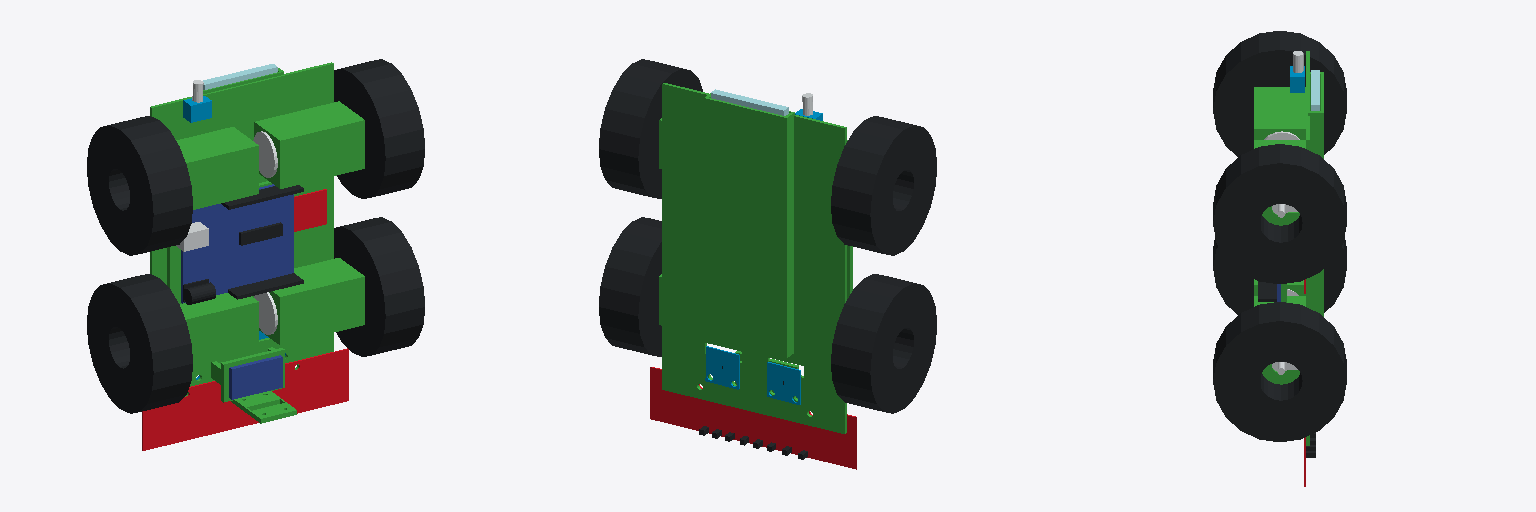
The model's file is tinker.obj.
3 views of the same model, side by side, from view 1: azimuth 30°, elevation 25°; view 2: azimuth 150°, elevation 25°; view 3: azimuth 270°, elevation 25° (orthographic).
Parts seen in each view (by area): view 1: obj_0; view 2: obj_0; view 3: obj_0.
Part boxes in pixels (bbox=[...]): obj_0: bbox=[87, 59, 424, 450]; obj_0: bbox=[599, 59, 936, 469]; obj_0: bbox=[1213, 31, 1346, 486].
Size of the model in its own units: 164 by 207 by 70.